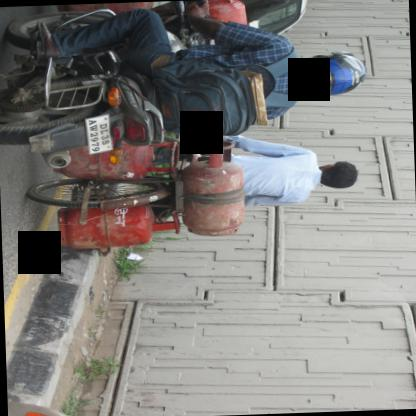backpack: (151, 47, 301, 136)
